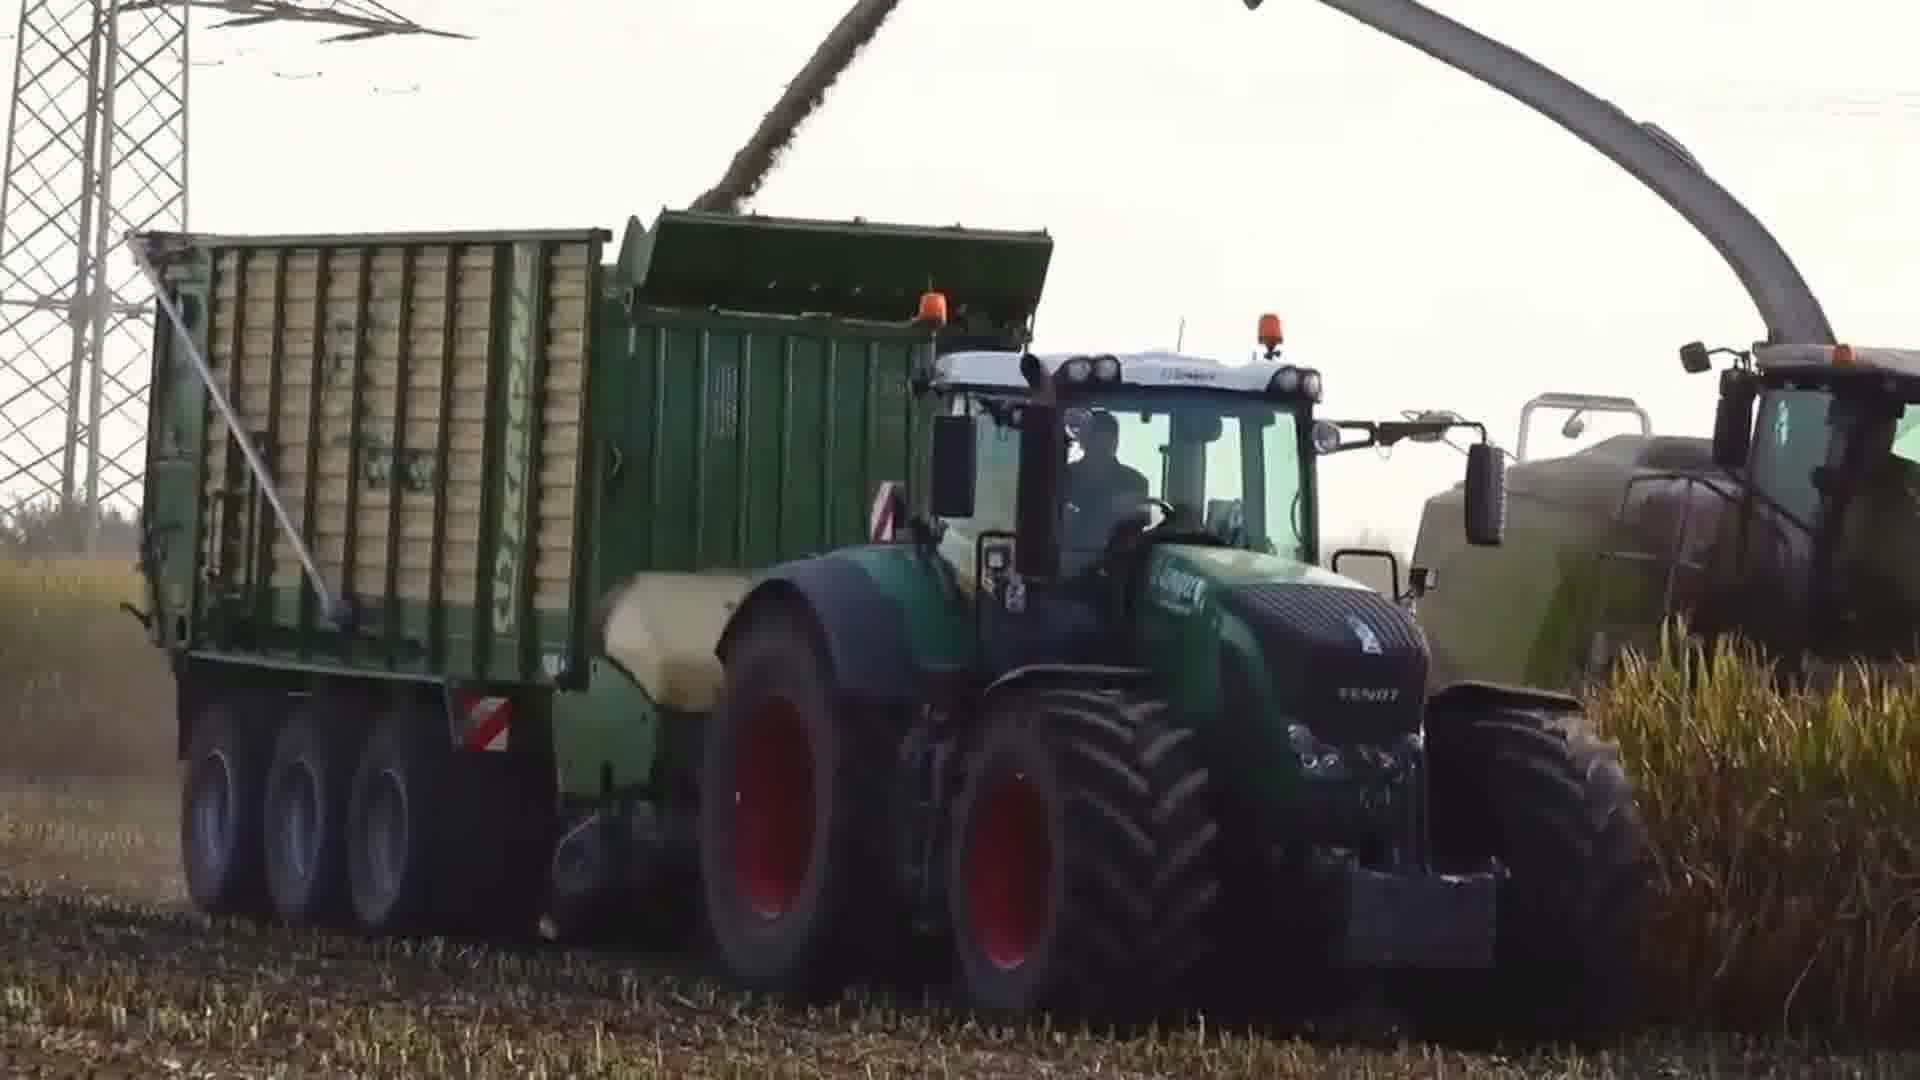combine harvester: (1237, 0, 1920, 742)
tractor: (694, 282, 1660, 1058)
trailer: (109, 199, 1063, 961)
